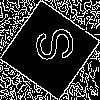S: (25, 25, 76, 66)
